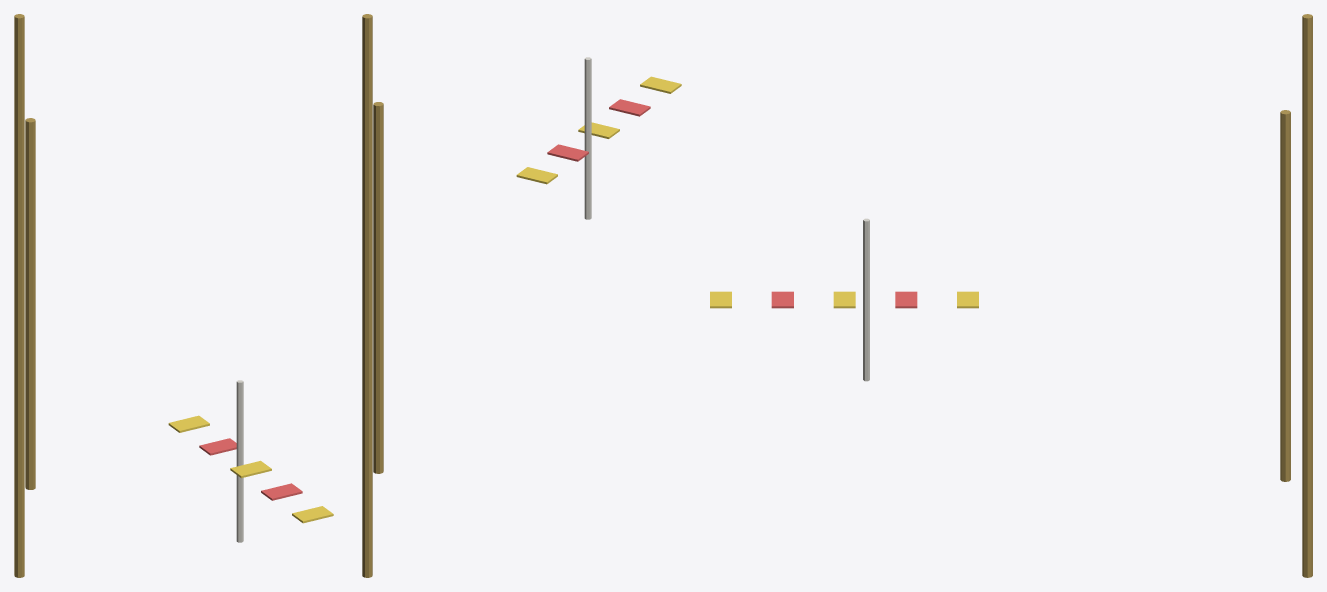
Rendered from kite.fbx.
The picture shows the model from 3 angles, left to right: view 1: azimuth 30°, elevation 25°; view 2: azimuth 150°, elevation 25°; view 3: azimuth 270°, elevation 25°; orthographic projection.
Visible parts, largest first — view 1: Frame_V, Frame_H, String, Tail_2, Tail_3, Tail_4, Tail_0, Tail_1; view 2: Frame_V, Frame_H, String, Tail_3, Tail_1, Tail_4, Tail_0; view 3: Frame_V, Frame_H, String.
Part boxes in pixels (x1=…): Frame_V: x1=14, y1=14, x2=24, y2=577; Frame_H: x1=25, y1=118, x2=35, y2=489; String: x1=236, y1=380, x2=243, y2=542; Tail_2: x1=230, y1=460, x2=271, y2=478; Tail_3: x1=261, y1=483, x2=302, y2=500; Tail_4: x1=292, y1=506, x2=333, y2=523; Tail_0: x1=168, y1=415, x2=209, y2=432; Tail_1: x1=199, y1=438, x2=236, y2=455; Frame_V: x1=362, y1=14, x2=372, y2=577; Frame_H: x1=373, y1=102, x2=383, y2=473; String: x1=584, y1=57, x2=591, y2=219; Tail_3: x1=609, y1=99, x2=650, y2=116; Tail_1: x1=547, y1=144, x2=588, y2=161; Tail_4: x1=640, y1=76, x2=681, y2=93; Tail_0: x1=516, y1=167, x2=557, y2=184; Frame_V: x1=1302, y1=14, x2=1312, y2=577; Frame_H: x1=1280, y1=110, x2=1290, y2=481; String: x1=863, y1=218, x2=869, y2=381.
Size of what is drawn, in the model's own units: 8 by 140 by 137.
